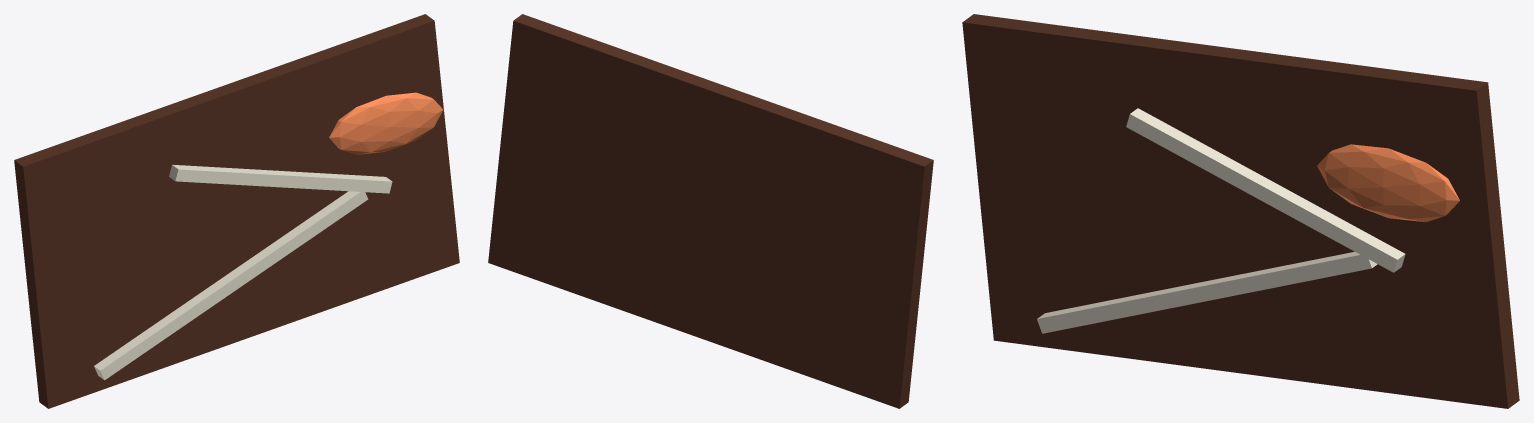
Rendered from 05_weathering_wear_overlay_5.glb.
3 renders of one model, left to right at view 1: azimuth 30°, elevation 25°; view 2: azimuth 150°, elevation 25°; view 3: azimuth 330°, elevation 25°, orthographic. The views are drawn at different scales.
Parts seen in each view (by area): view 1: wear_plate, scratch_a, rust_or_moss_spot, scratch_b; view 2: wear_plate; view 3: wear_plate, rust_or_moss_spot, scratch_b, scratch_a.
Boxes of the visible parts, box(x1,y1,x2,y2) form: wear_plate: box(14, 14, 459, 408); scratch_a: box(94, 191, 368, 380); rust_or_moss_spot: box(329, 92, 443, 154); scratch_b: box(169, 164, 392, 193); wear_plate: box(488, 14, 933, 408); wear_plate: box(962, 14, 1519, 408); rust_or_moss_spot: box(1317, 144, 1459, 221); scratch_b: box(1126, 108, 1405, 272); scratch_a: box(1037, 251, 1377, 333).
Bounding box in the file's own units: 1.37 × 0.883 × 0.134.
